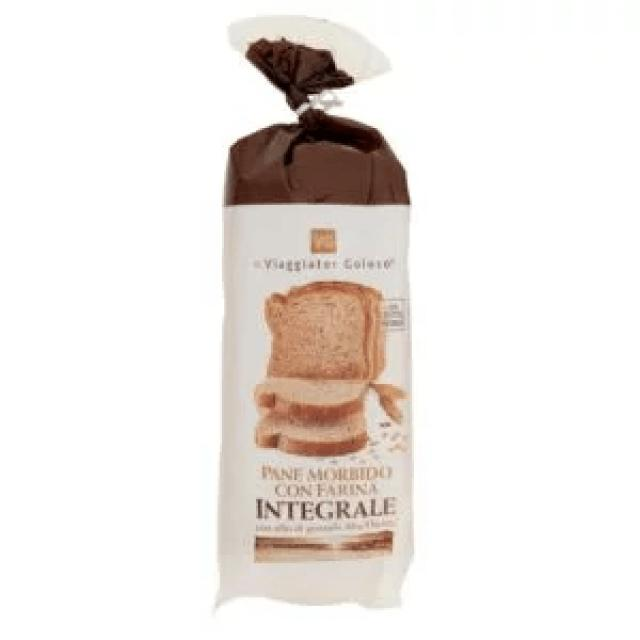Bread loaf: (215, 41, 414, 608)
